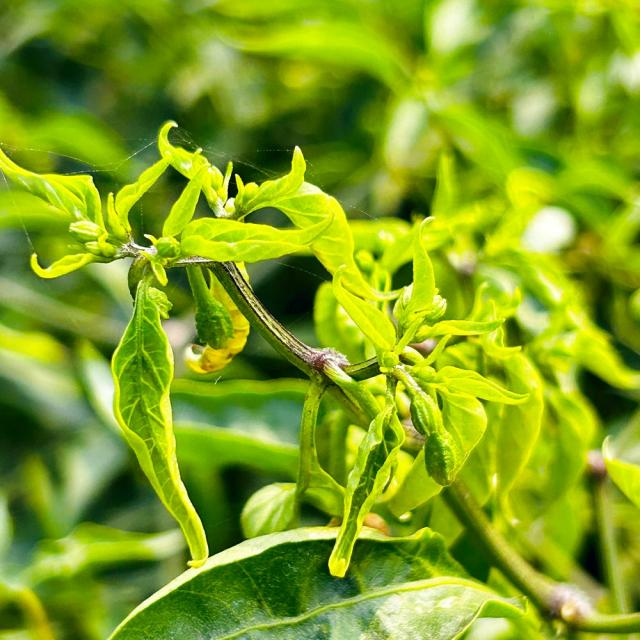Chilli_Leaf_Curl: (1, 118, 531, 582), (1, 118, 394, 370), (326, 214, 530, 488), (106, 523, 529, 638), (109, 256, 209, 568), (326, 401, 406, 578)
